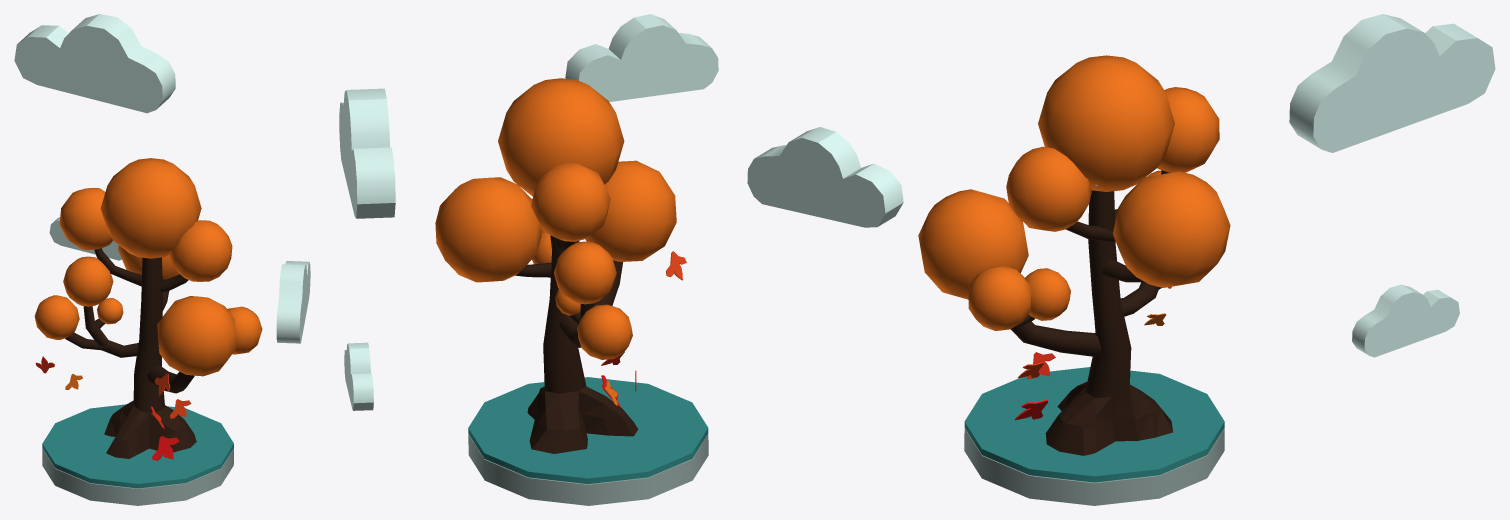
File: Tree.fbx
The picture shows the model from 3 angles, left to right: view 1: azimuth 30°, elevation 25°; view 2: azimuth 150°, elevation 25°; view 3: azimuth 270°, elevation 25°; orthographic projection. The views are drawn at different scales.
Parts seen in each view (by area): view 1: Line001, Object011, Sphere003, Cylinder001, Sphere007, Cylinder004, Sphere006, Sphere004, Line003, Sphere001, Sphere002, Sphere009 (+8 smaller); view 2: Object011, Sphere003, Line003, Sphere005, Cylinder001, Line001, Sphere007, Cylinder004, Sphere004, Sphere001, Sphere002, Line002 (+3 smaller); view 3: Line001, Object011, Sphere003, Cylinder001, Sphere005, Line003, Sphere007, Cylinder004, Sphere006, Line002, Sphere004, Sphere009 (+2 smaller).
Part boxes in pixels (left/top/right/bottom): Line001: left=14, top=14, right=175, bottom=113; Object011: left=42, top=404, right=233, bottom=488; Sphere003: left=100, top=158, right=201, bottom=258; Cylinder001: left=104, top=257, right=196, bottom=458; Sphere007: left=157, top=296, right=236, bottom=376; Cylinder004: left=42, top=448, right=233, bottom=505; Sphere006: left=169, top=220, right=232, bottom=281; Sphere004: left=59, top=188, right=112, bottom=249; Line003: left=276, top=261, right=310, bottom=343; Sphere001: left=63, top=256, right=113, bottom=306; Sphere002: left=34, top=295, right=79, bottom=339; Sphere009: left=227, top=306, right=262, bottom=354; Object011: left=468, top=377, right=708, bottom=484; Sphere003: left=498, top=78, right=624, bottom=196; Line003: left=565, top=14, right=718, bottom=101; Sphere005: left=435, top=177, right=541, bottom=282; Cylinder001: left=527, top=236, right=638, bottom=453; Line001: left=339, top=88, right=395, bottom=218; Sphere007: left=585, top=160, right=676, bottom=261; Cylinder004: left=468, top=434, right=708, bottom=505; Sphere004: left=531, top=163, right=610, bottom=241; Sphere001: left=554, top=241, right=616, bottom=304; Sphere002: left=577, top=304, right=632, bottom=359; Line002: left=344, top=342, right=373, bottom=410; Line001: left=1289, top=14, right=1495, bottom=152; Object011: left=964, top=367, right=1224, bottom=482; Sphere003: left=1038, top=55, right=1174, bottom=191; Cylinder001: left=1045, top=190, right=1172, bottom=455; Sphere005: left=1113, top=171, right=1230, bottom=287; Line003: left=747, top=127, right=903, bottom=227; Sphere007: left=918, top=189, right=1028, bottom=299; Cylinder004: left=964, top=428, right=1224, bottom=505; Sphere006: left=1006, top=146, right=1091, bottom=231; Line002: left=1352, top=284, right=1459, bottom=357; Sphere004: left=1157, top=87, right=1219, bottom=172; Sphere009: left=968, top=265, right=1031, bottom=330.
Bounding box in the file's own units: 76.75 × 127 × 182.
